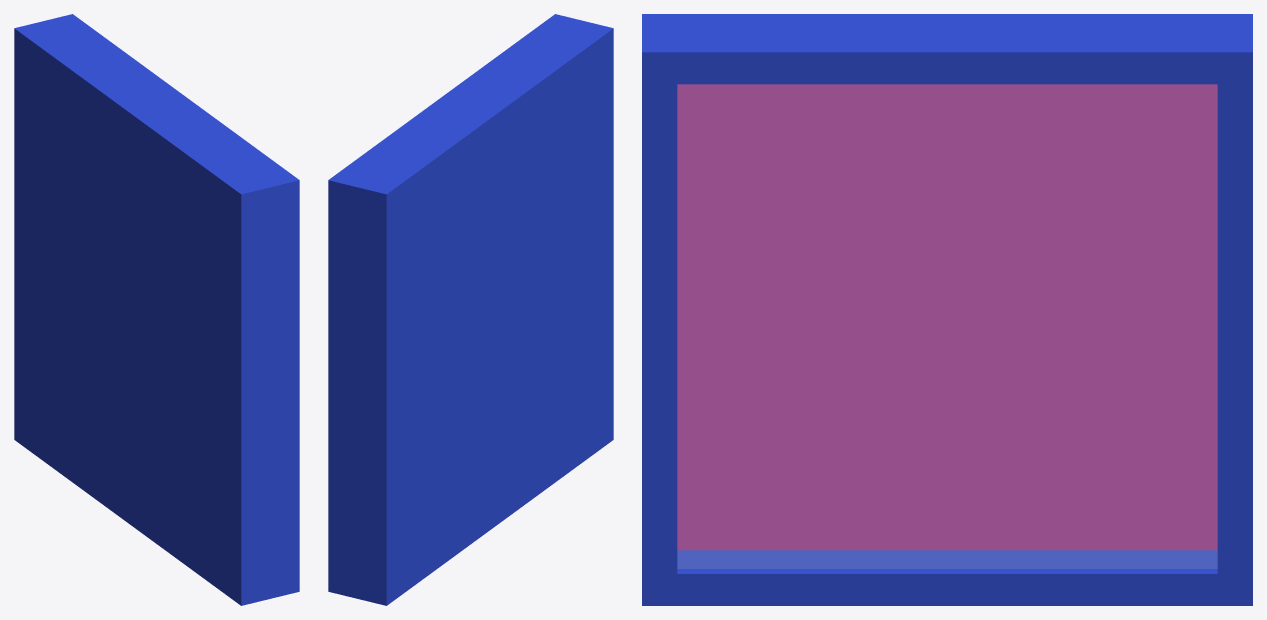
Rendered from GlassTest.gltf.
The picture shows the model from 3 angles, left to right: view 1: azimuth 30°, elevation 25°; view 2: azimuth 150°, elevation 25°; view 3: azimuth 270°, elevation 25°; orthographic projection. The views are drawn at different scales.
Visible parts, largest first — view 1: Cube.001; view 2: Cube.001; view 3: Cube.001, Cube.
Part boxes in pixels (x1=…): Cube.001: x1=14, y1=14, x2=299, y2=605; Cube.001: x1=328, y1=14, x2=613, y2=605; Cube.001: x1=642, y1=14, x2=1252, y2=605; Cube: x1=677, y1=84, x2=1217, y2=568.
Size of the model in its own units: 0.3358 by 2.26 by 2.26.
